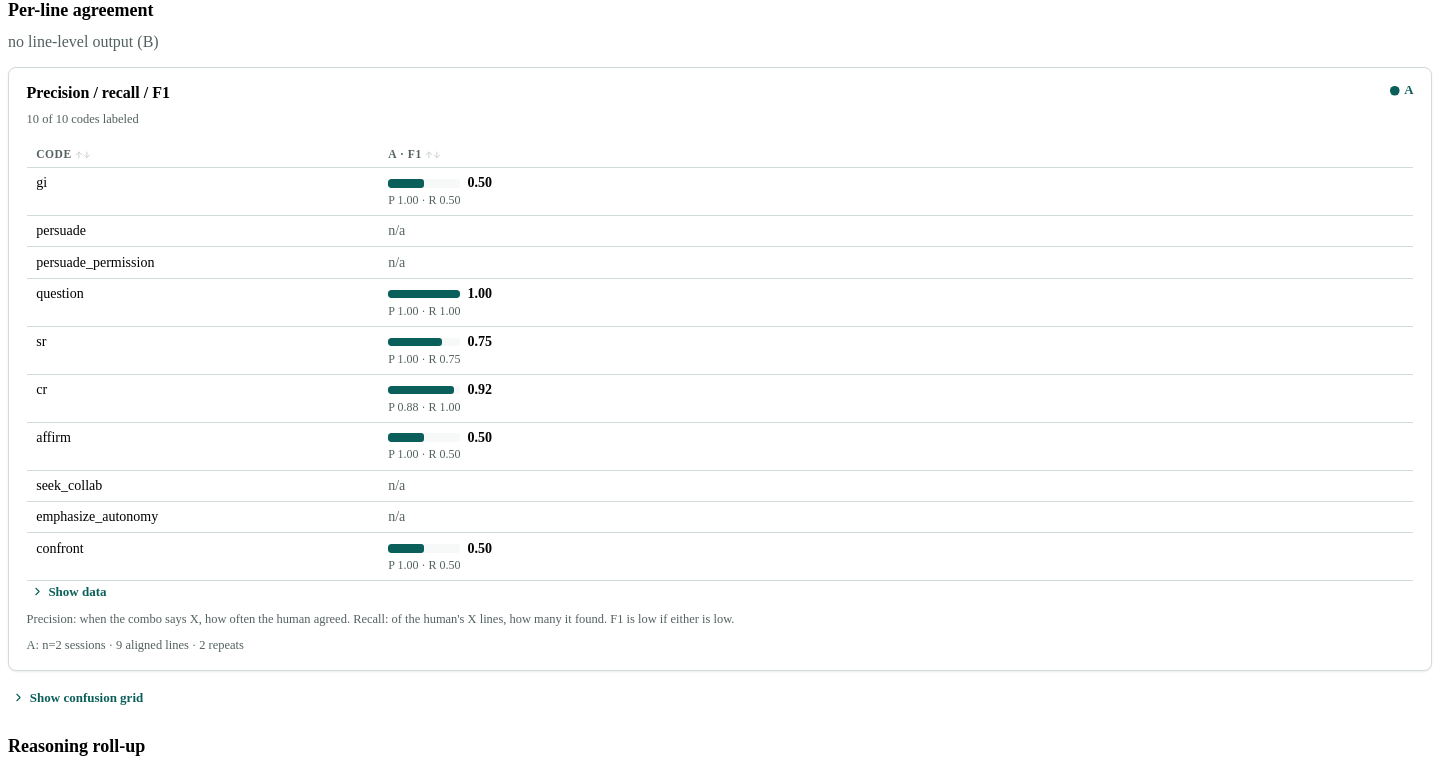
Test: reports empty matching sessions and supports retry after a matching-session failure
(page scrolled)
Step 1. Click the button "Show confusion grid" → (78, 698), box x1=8 y1=688 x2=147 y2=708
(page scrolled)
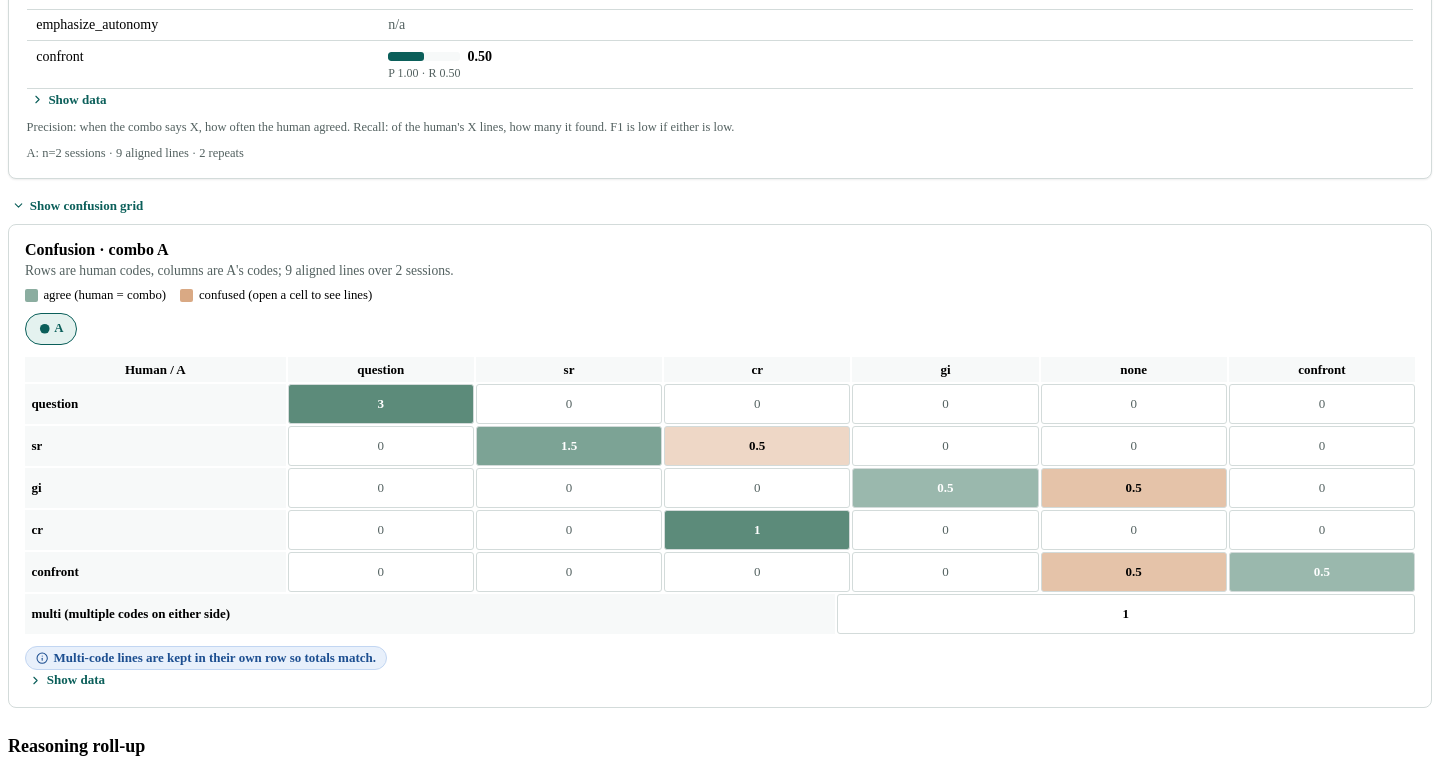
Step 2. Click the button named "Human sr, A cr:" → (757, 446), box x1=664 y1=426 x2=850 y2=466
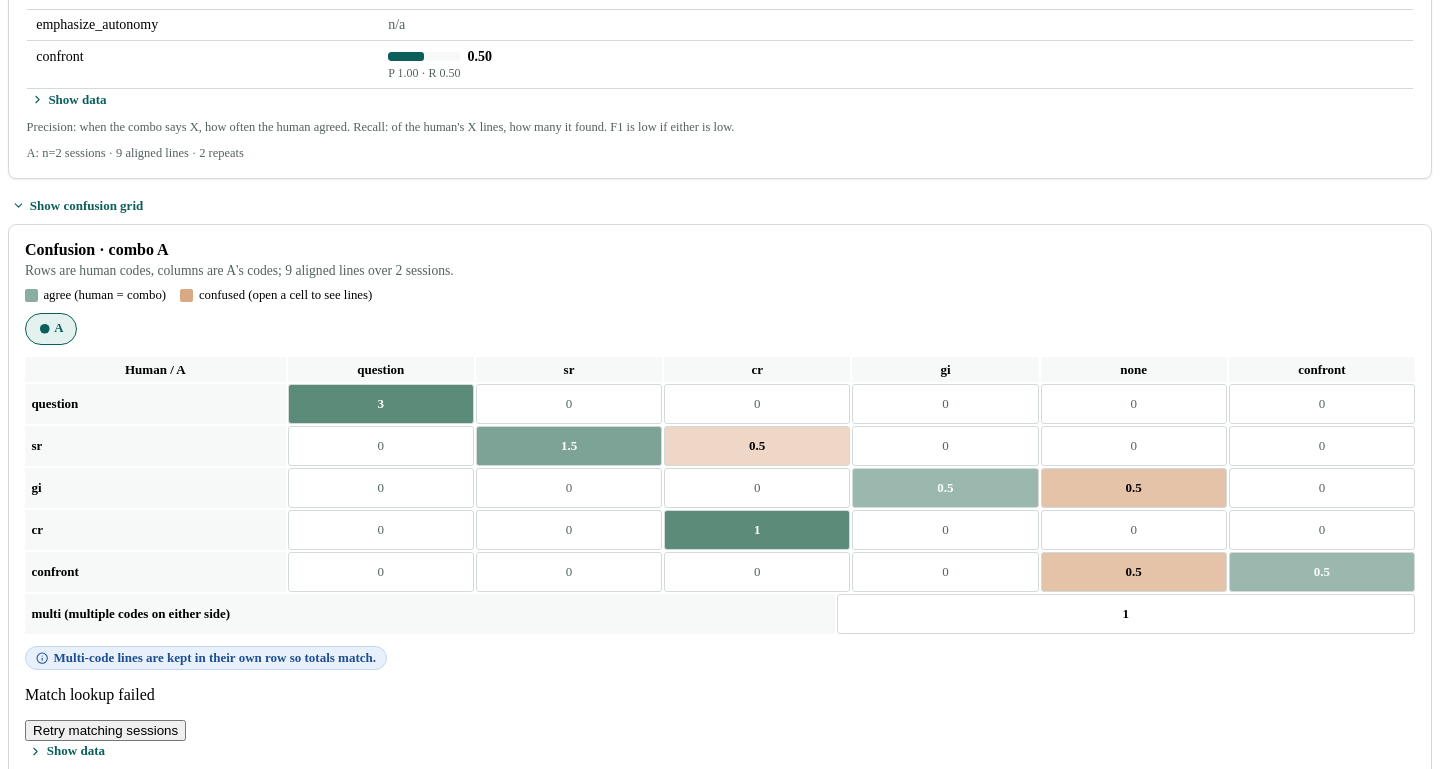
Expected: the text "Match lookup failed" is shown, x1=25 y1=686 x2=155 y2=703
Step 3. Click the button "Retry matching sessions" → (106, 731), box x1=25 y1=720 x2=186 y2=741
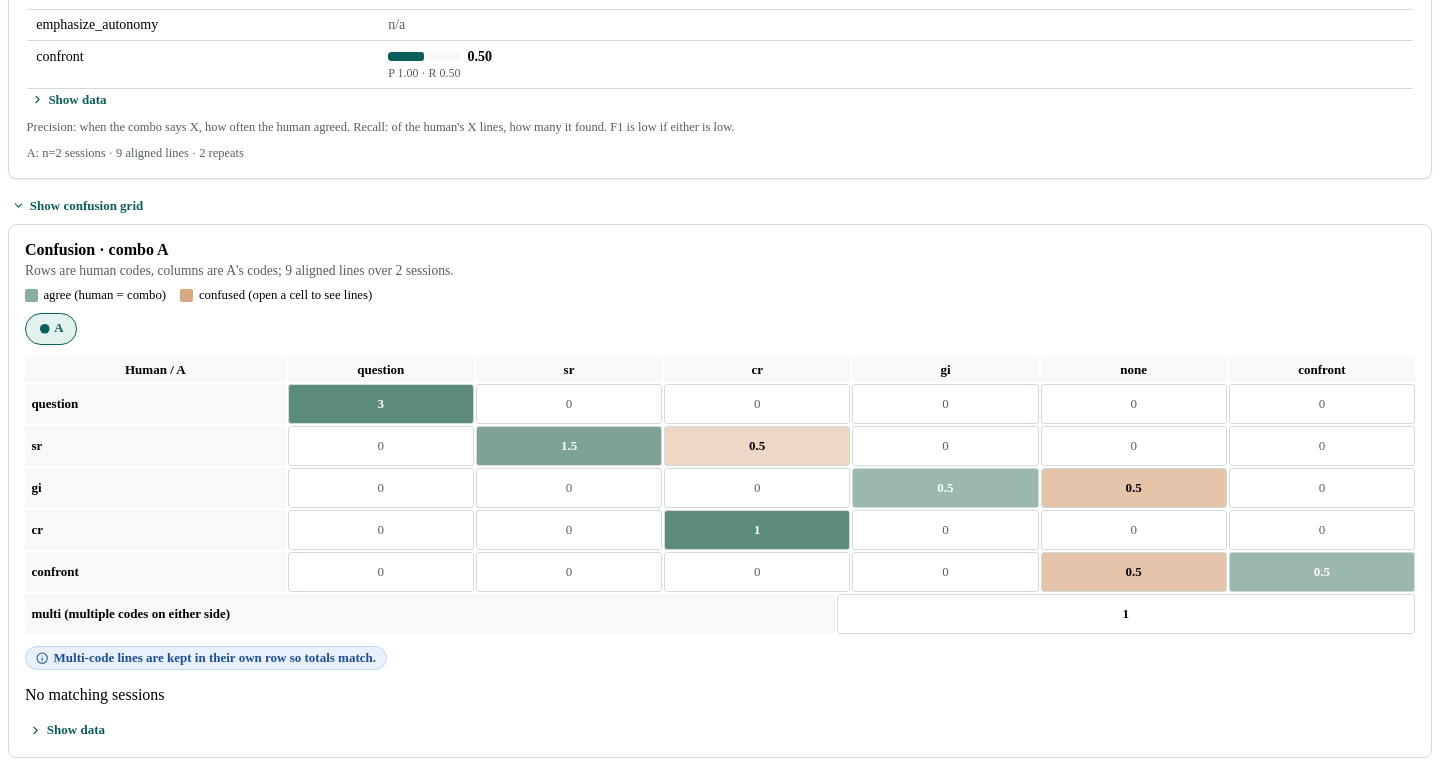
Expected: the text "No matching sessions" is shown, x1=25 y1=686 x2=164 y2=703
